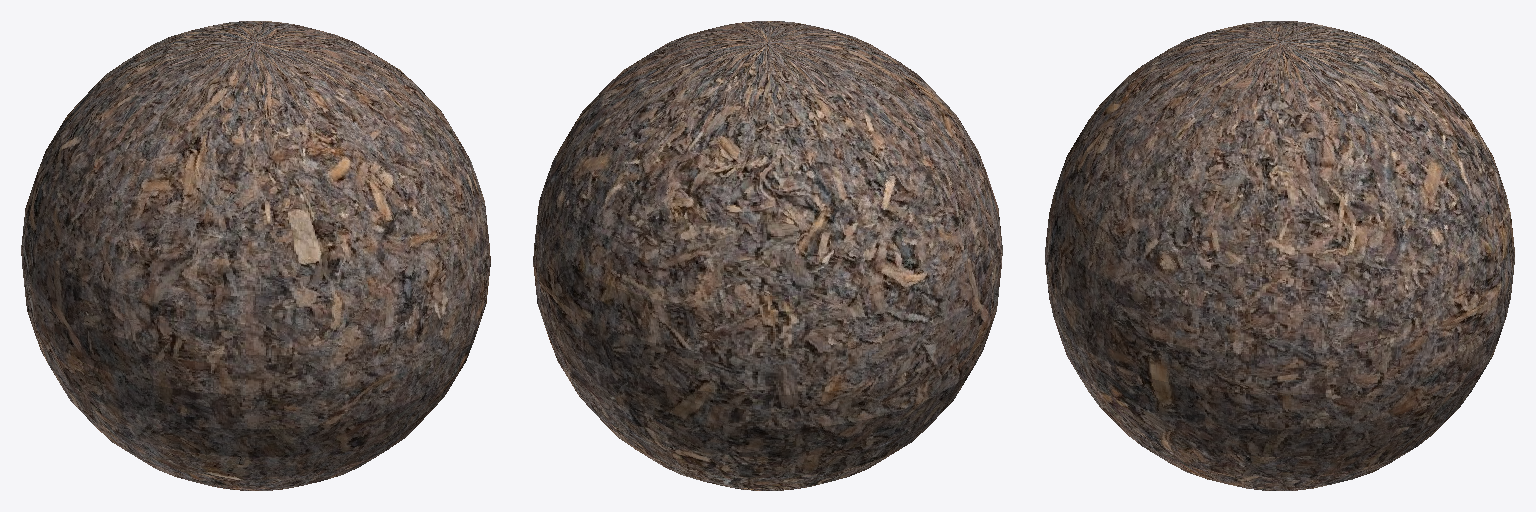
3 views of the same model, side by side, from view 1: azimuth 30°, elevation 25°; view 2: azimuth 150°, elevation 25°; view 3: azimuth 270°, elevation 25° (orthographic).
Visible parts, largest first — view 1: Sphere6; view 2: Sphere6; view 3: Sphere6.
Boxes of the visible parts, x1=… form: Sphere6: x1=21, y1=21, x2=490, y2=490; Sphere6: x1=533, y1=21, x2=1002, y2=490; Sphere6: x1=1045, y1=21, x2=1514, y2=490.
Bounding box in the file's own units: 2 × 2 × 2.
1 materials, 1 textured.